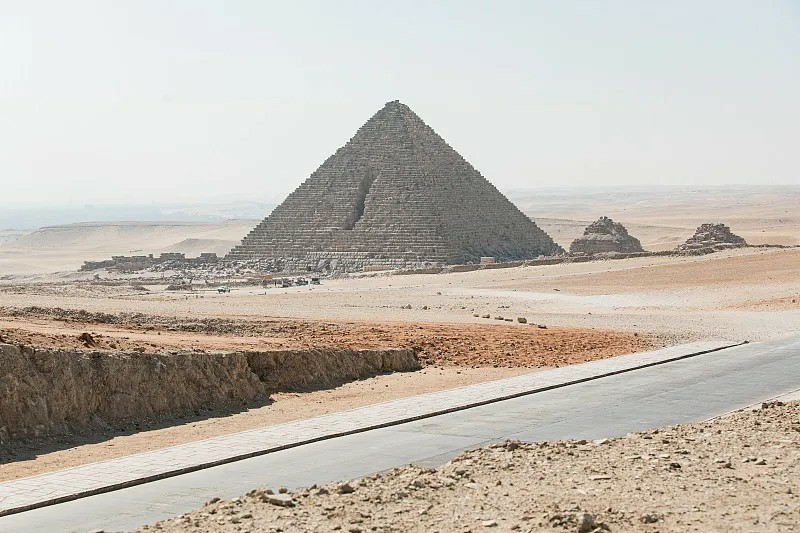Pyramid: (224, 98, 567, 259)
